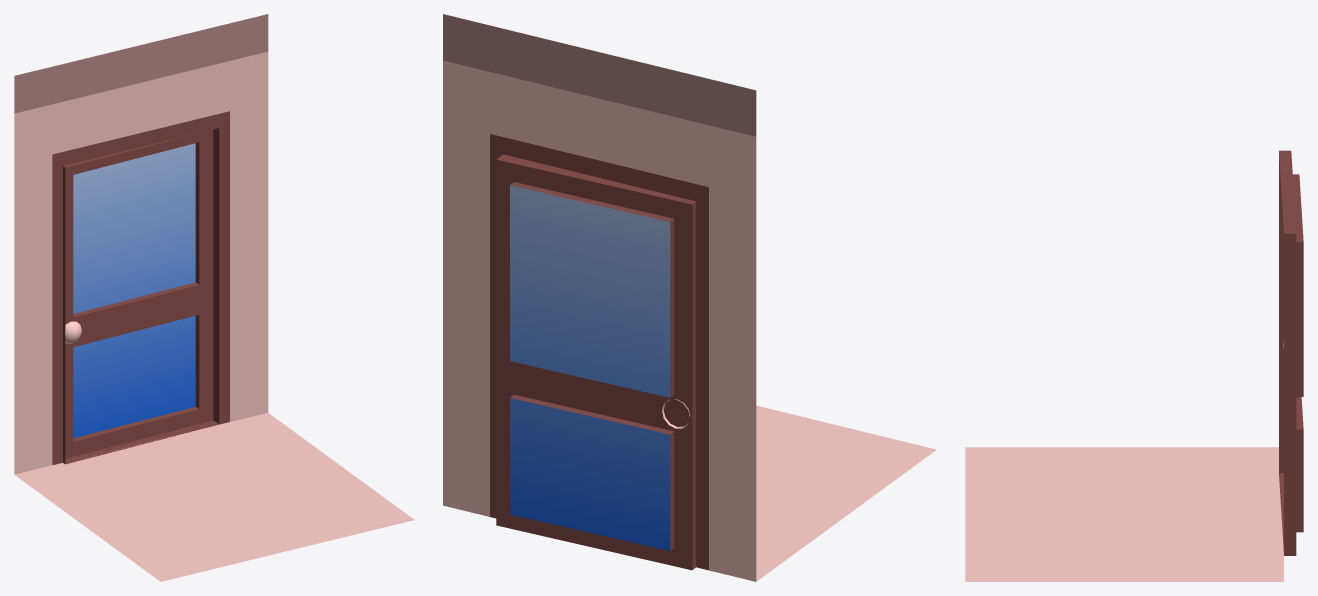
Rendered from Wall_With_Door.fbx.
3 renders of one model, left to right at view 1: azimuth 30°, elevation 25°; view 2: azimuth 150°, elevation 25°; view 3: azimuth 270°, elevation 25°, orthographic. The views are drawn at different scales.
Visible parts, largest first — view 1: Wall, Door; view 2: Wall, Door; view 3: Wall, Door.
Boxes of the visible parts, box(x1,y1,x2,y2) form: Wall: box(14, 14, 414, 581); Door: box(63, 128, 219, 464); Wall: box(443, 14, 936, 581); Door: box(496, 154, 695, 570); Wall: box(965, 447, 1283, 581); Door: box(1279, 150, 1303, 555).
Size of the model in its own units: 2 by 3 by 2.12.
